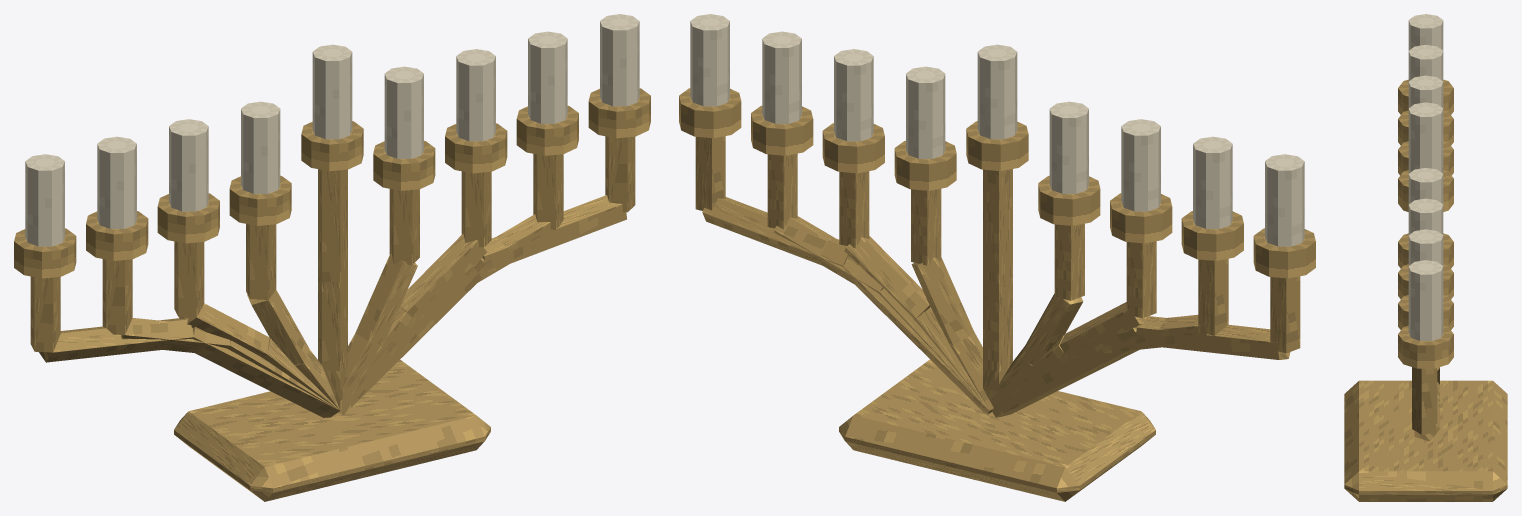
Rendered from menorah.glb.
3 views of the same model, side by side, from view 1: azimuth 30°, elevation 25°; view 2: azimuth 150°, elevation 25°; view 3: azimuth 270°, elevation 25° (orthographic). The views are drawn at different scales.
Parts seen in each view (by area): view 1: block_wax candle (×9), block_brass pedestal, block_candelabrum branch 1 (×9), block_candelabrum branch 2 (×9), block_candle socket (×9), block_candelabrum branch 0 (×8); view 2: block_wax candle (×9), block_brass pedestal, block_candelabrum branch 1 (×9), block_candelabrum branch 2 (×9), block_candle socket (×9), block_candelabrum branch 0 (×7); view 3: block_brass pedestal, block_wax candle (×8), block_candle socket (×8), block_candelabrum branch 2, block_candelabrum branch 1.
Part boxes in pixels (x1,y1,x2,y2): block_wax candle (×9): [25, 14, 639, 246]; block_brass pedestal: [174, 359, 490, 501]; block_candelabrum branch 1 (×9): [39, 195, 626, 371]; block_candelabrum branch 2 (×9): [30, 136, 635, 352]; block_candle socket (×9): [14, 88, 650, 278]; block_candelabrum branch 0 (×8): [192, 259, 489, 417]; block_wax candle (×9): [690, 14, 1304, 246]; block_brass pedestal: [839, 359, 1155, 501]; block_candelabrum branch 1 (×9): [702, 197, 1290, 371]; block_candelabrum branch 2 (×9): [695, 136, 1300, 353]; block_candle socket (×9): [679, 88, 1315, 278]; block_candelabrum branch 0 (×7): [843, 257, 1139, 417]; block_brass pedestal: [1344, 380, 1507, 501]; block_wax candle (×8): [1408, 14, 1443, 340]; block_candle socket (×8): [1398, 79, 1453, 368]; block_candelabrum branch 2: [1412, 367, 1437, 434]; block_candelabrum branch 1: [1414, 382, 1439, 441].
Bounding box in the file's own units: 0.184 × 0.1108 × 0.0473.
1 material, 1 textured.
